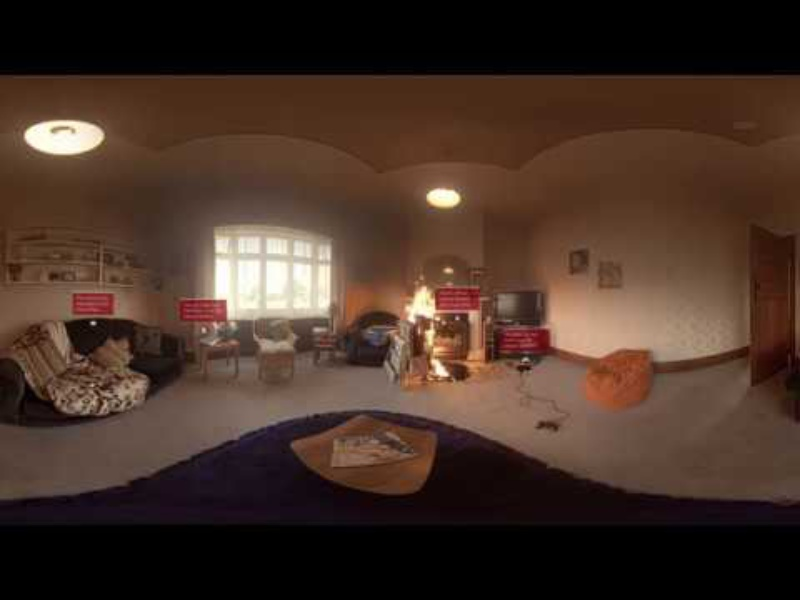fire: (409, 285, 437, 346)
